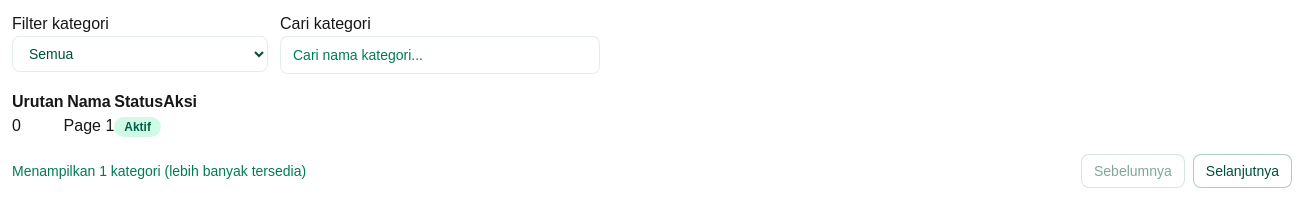
Scenario: CategoryTable DOM › rapid search then filter change does not use stale cursor
The image size is (1304, 205).
Expected: the text "Page 1" is shown, top-left (64, 114), bottom-right (114, 138)
Click the button "Selanjutnya": (1242, 171) top-left (1193, 154), bottom-right (1292, 188)
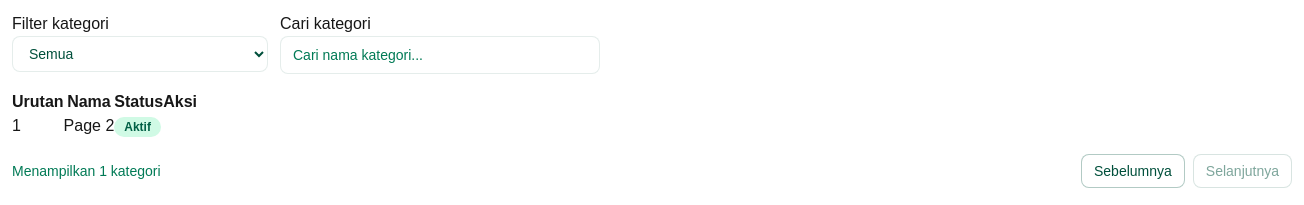
Expected: the text "Page 2" is shown, top-left (64, 114), bottom-right (114, 138)
In the search field labelled "Cari kategori": (440, 55) top-left (280, 36), bottom-right (600, 74), type "nasi"
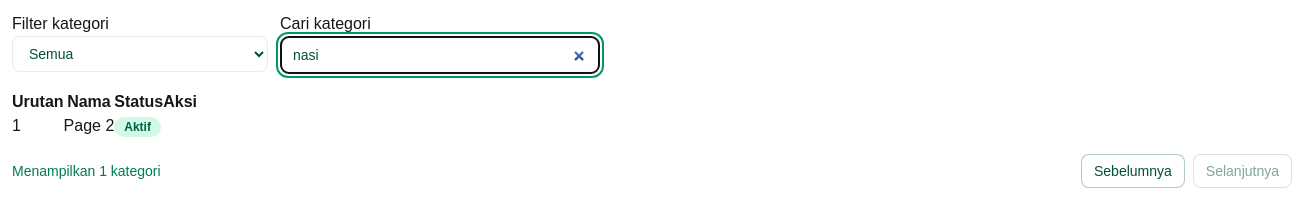
Select "Aktif" in the dropdown labelled "Filter kategori": (140, 54) top-left (12, 36), bottom-right (268, 72)
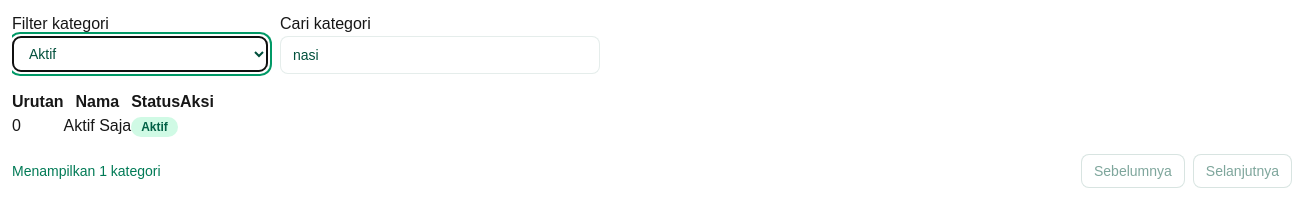
Expected: the element that starts with "Urutan" is shown, top-left (12, 90), bottom-right (1292, 188)
Expected: the text "Page 2" is gone
Expected: the text "Aktif Saja" is shown, top-left (64, 114), bottom-right (131, 138)
